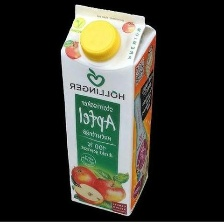carton: (51, 2, 161, 219)
